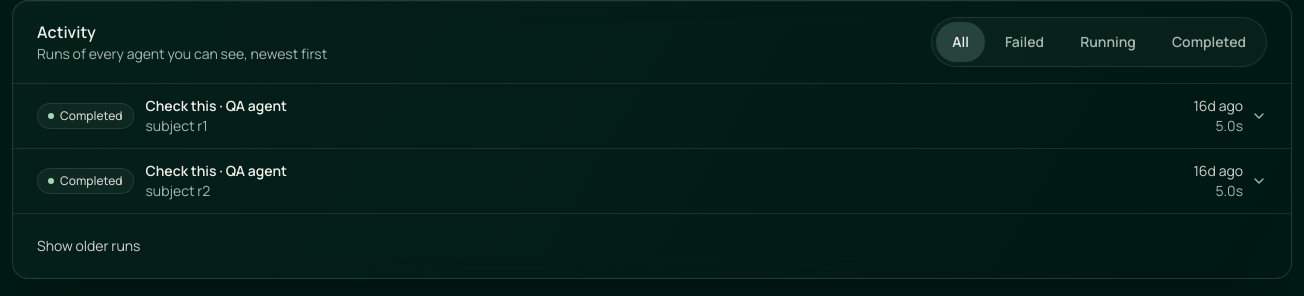
activity feed › shows older runs after the newest page, by cursor
Check: the text "subject r2" is shown, box [146, 181, 210, 200]
Click the button "Show older runs": [89, 246] box [29, 226, 148, 266]
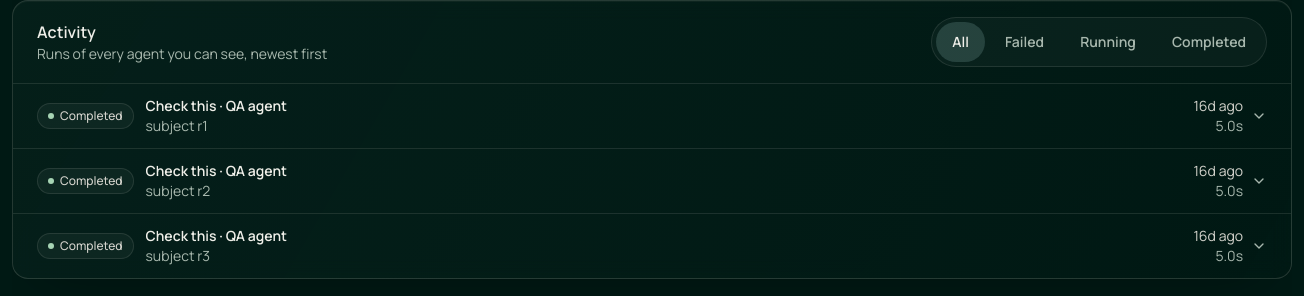
Check: the text "subject r3" is shown, box [146, 246, 210, 265]
Check: the button "Show older runs" is gone
